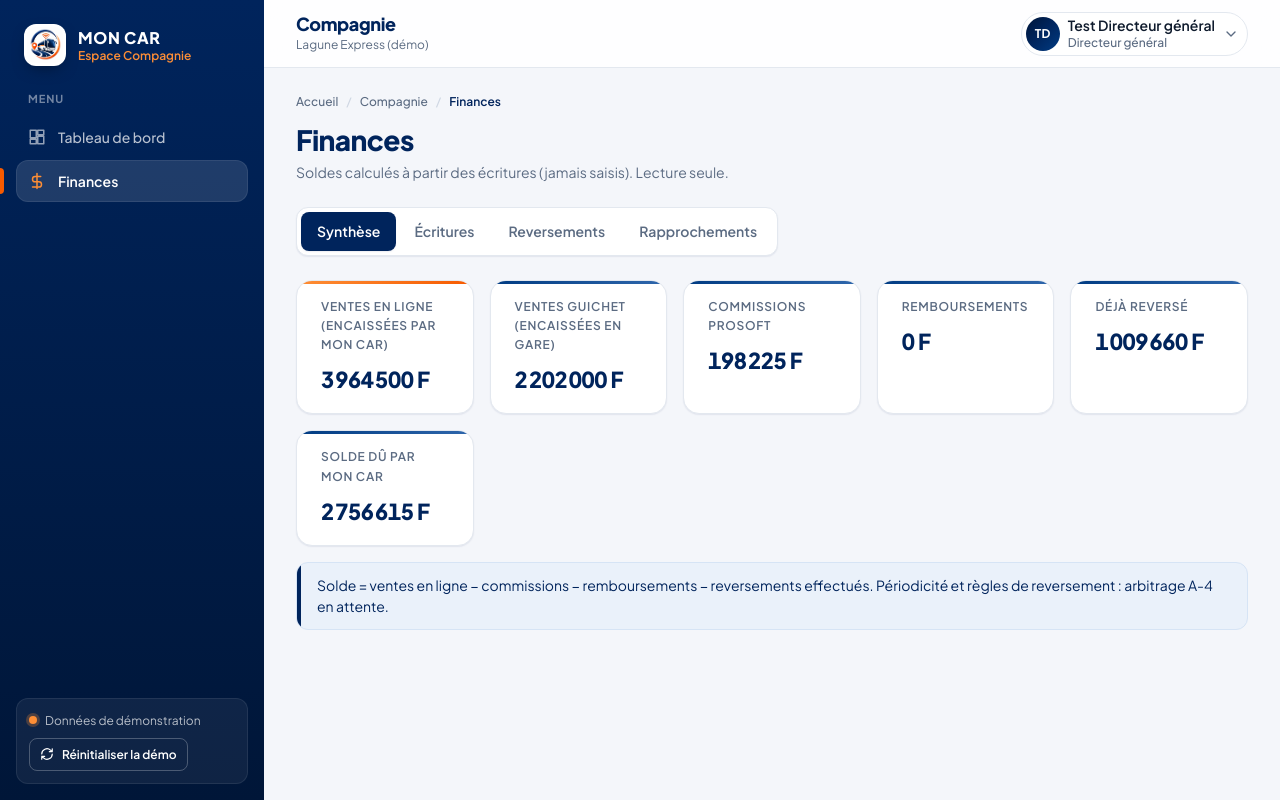
Finances, promotions, paramètres, litiges › les exports financiers sont désactivés, avec motif, pour un poste sans la permission
This screenshot has width=1280, height=800.
Click the tab "Écritures". click: [444, 231]
box: 398,212 -> 490,251
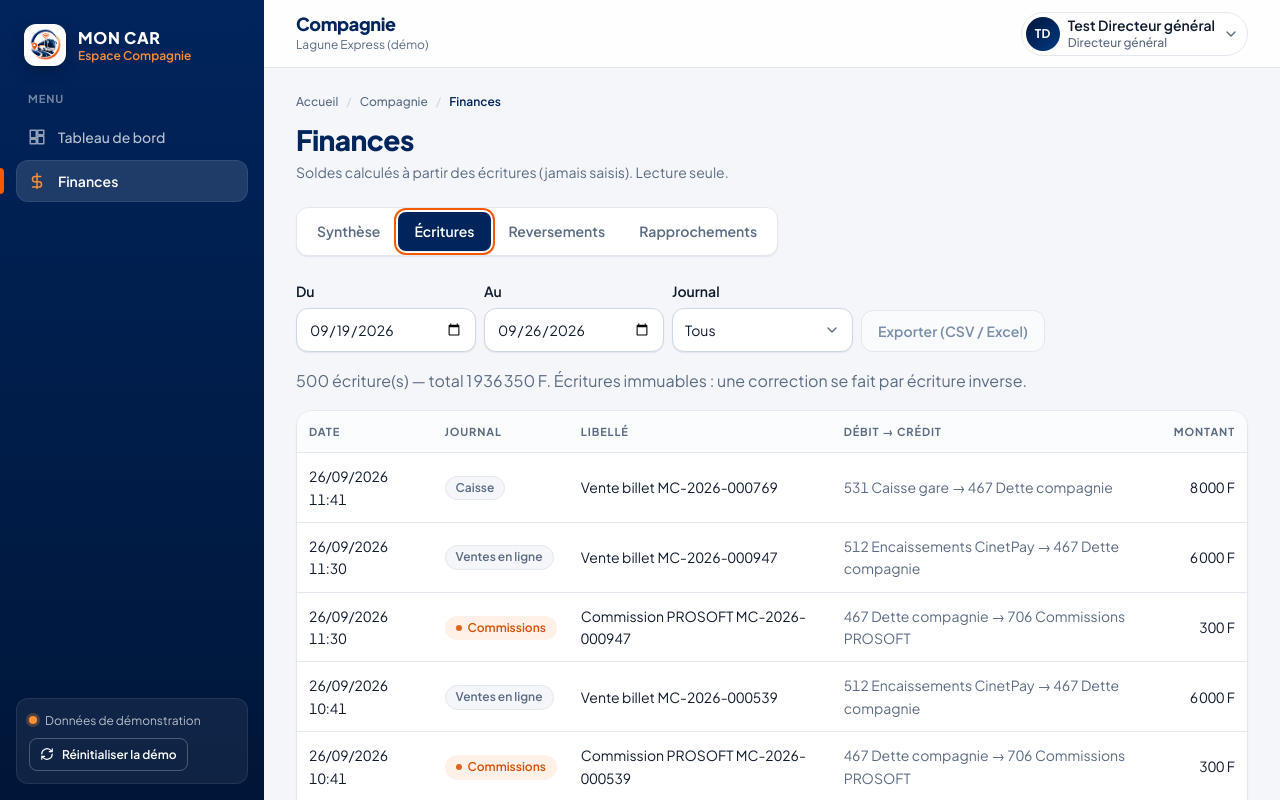
Result: the button "Exporter (CSV / Excel)" is disabled at 861,310 -> 1045,352
